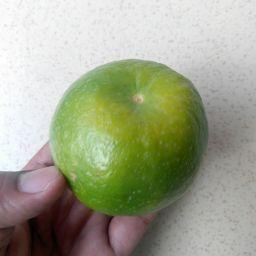Ripe: (53, 60, 209, 217)
